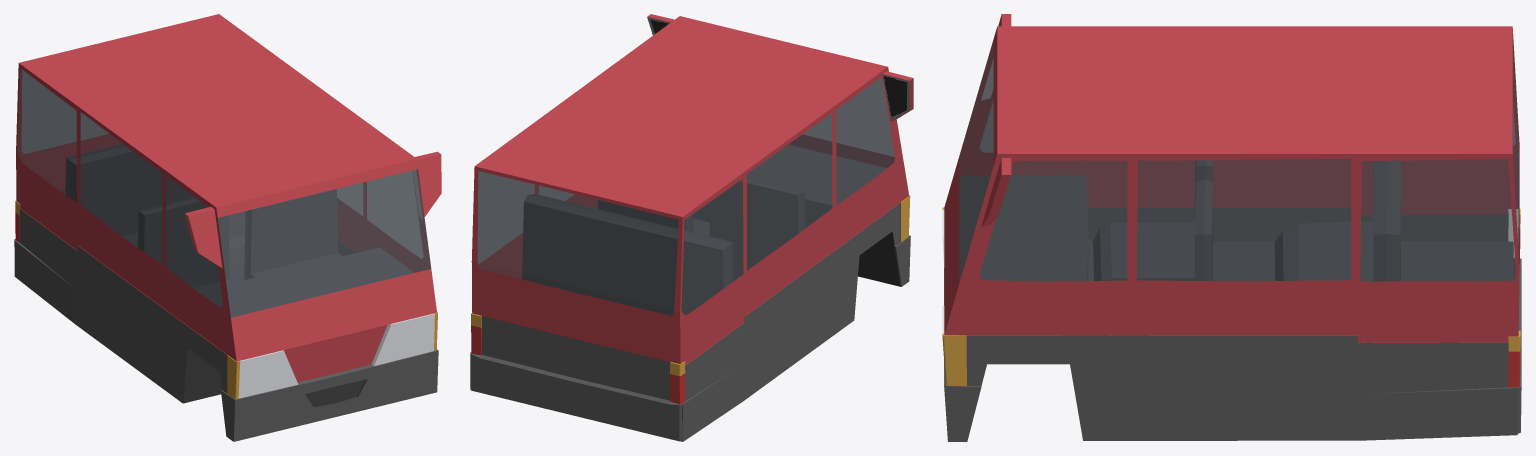
File: daihatsu_dumbo.glb
The picture shows the model from 3 angles, left to right: view 1: azimuth 30°, elevation 25°; view 2: azimuth 150°, elevation 25°; view 3: azimuth 270°, elevation 25°; orthographic projection. The views are drawn at different scales.
Parts seen in each view (by area): view 1: dumbo; view 2: dumbo; view 3: dumbo.
Boxes of the visible parts, x1,y1,x2,y2 form: dumbo: (14, 14, 441, 441); dumbo: (470, 14, 913, 441); dumbo: (942, 14, 1521, 441).
Bounding box in the file's own units: 1.9 × 1.58 × 2.89.
9 materials, 1 textured.
